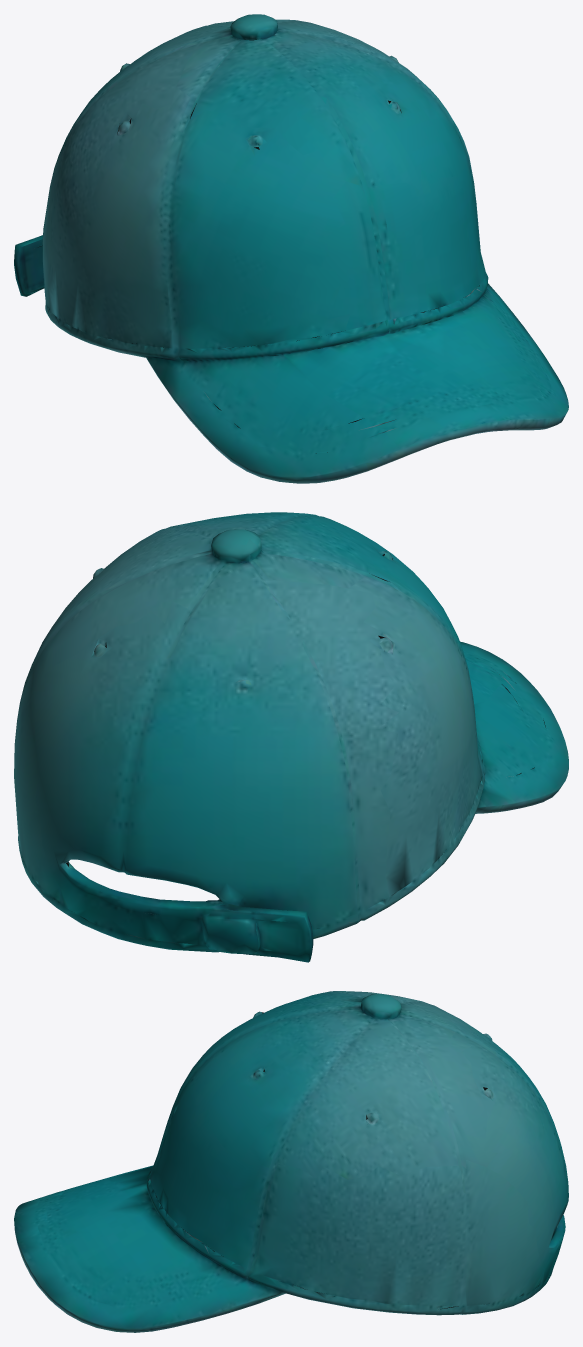
File: cap.glb
The picture shows the model from 3 angles, top to bottom: view 1: azimuth 30°, elevation 25°; view 2: azimuth 150°, elevation 25°; view 3: azimuth 270°, elevation 25°; orthographic projection. The views are drawn at different scales.
Visible parts, largest first — view 1: node_0; view 2: node_0; view 3: node_0.
Part boxes in pixels (x1,y1,x2,y2): node_0: [14, 14, 568, 483]; node_0: [14, 512, 568, 962]; node_0: [14, 991, 568, 1332].
Size of the model in its own units: 0.46 by 0.3752 by 0.6966.
Materials: 1 (1 with a texture image).
